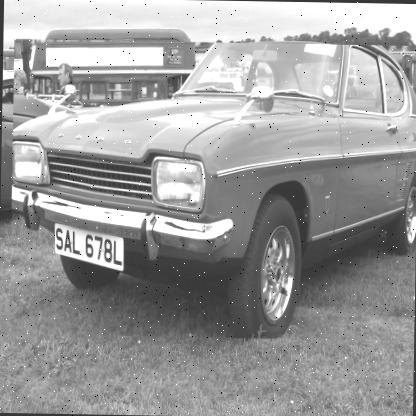Car: (9, 38, 415, 342), (0, 69, 108, 214)
